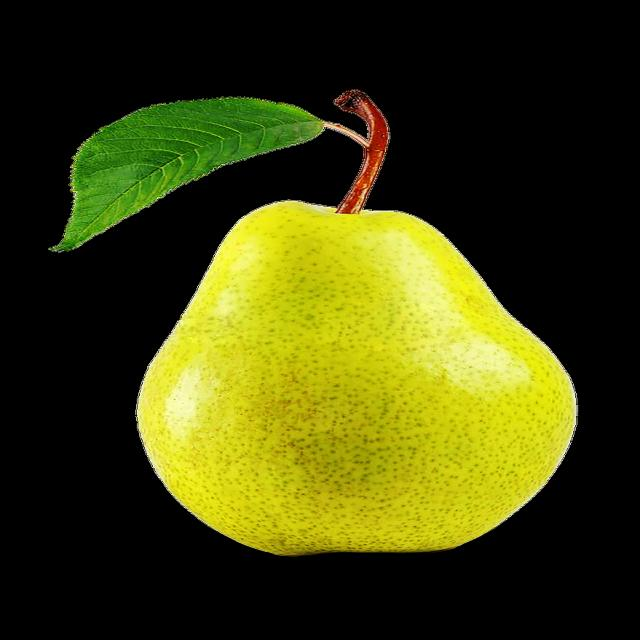pera: (47, 68, 590, 578)
